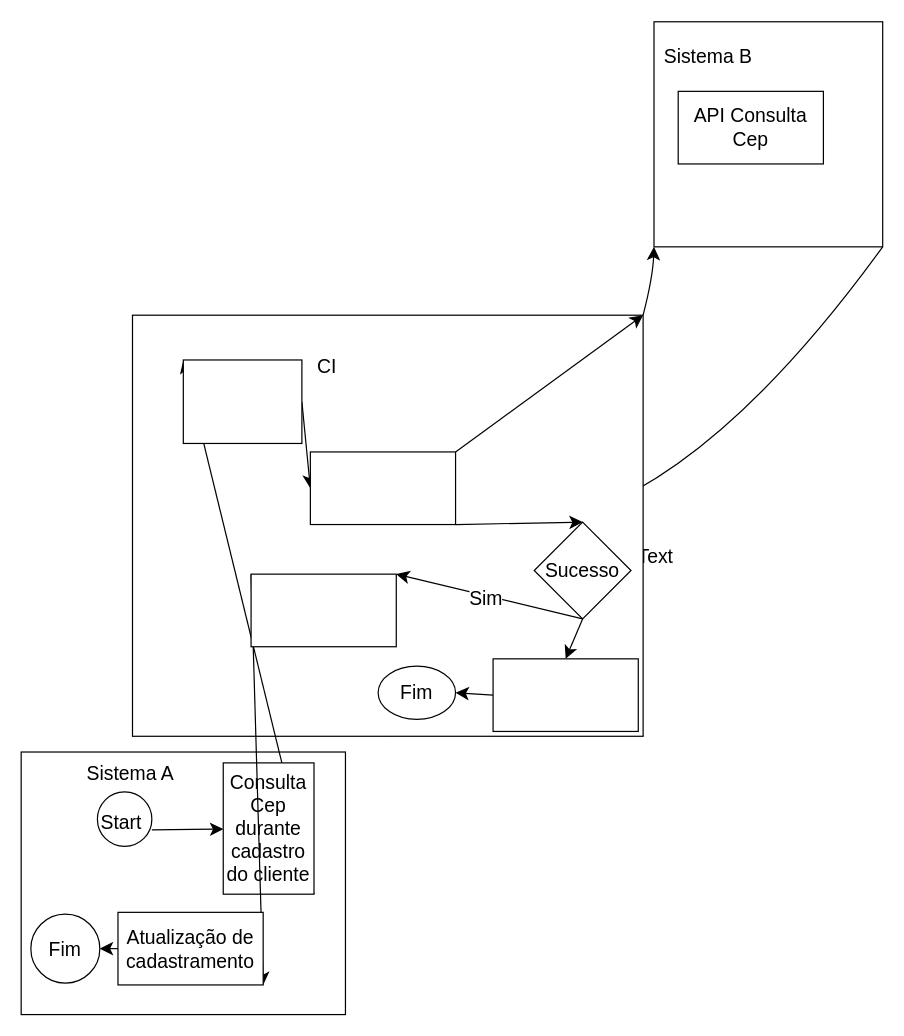
Image size: 904x1036. Some labels were removed from this diagram. The box of each missing label's shape, as (x1, y1, x2, y2) in pixels:
Consultar Cep: (309, 451, 456, 525)
Enviar email com erro: (492, 658, 638, 731)
Montar os dados em formato JSON: (250, 573, 396, 647)
Montar os parametros de consulta: (182, 359, 302, 443)
